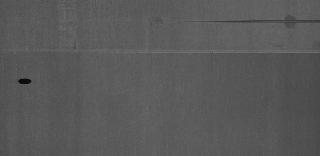oil spot: (284, 15, 298, 29)
punching hole: (16, 77, 34, 87)
scratches: (180, 12, 320, 27)
welding line: (3, 49, 320, 59)
